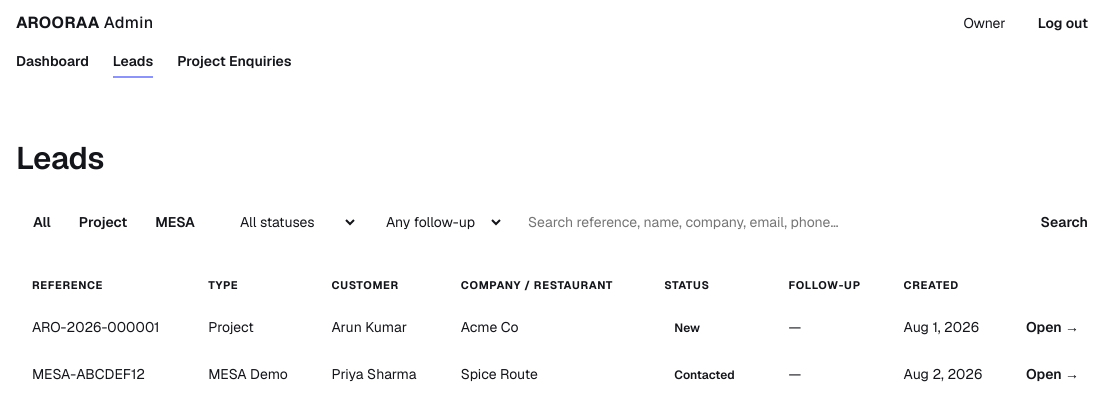
Test case: AdminLeadsListPage › filters by lead type
Expected: the text "Arun Kumar" is shown, [316, 305, 445, 352]
Click the button "Project" at (103, 222), box [65, 206, 141, 238]
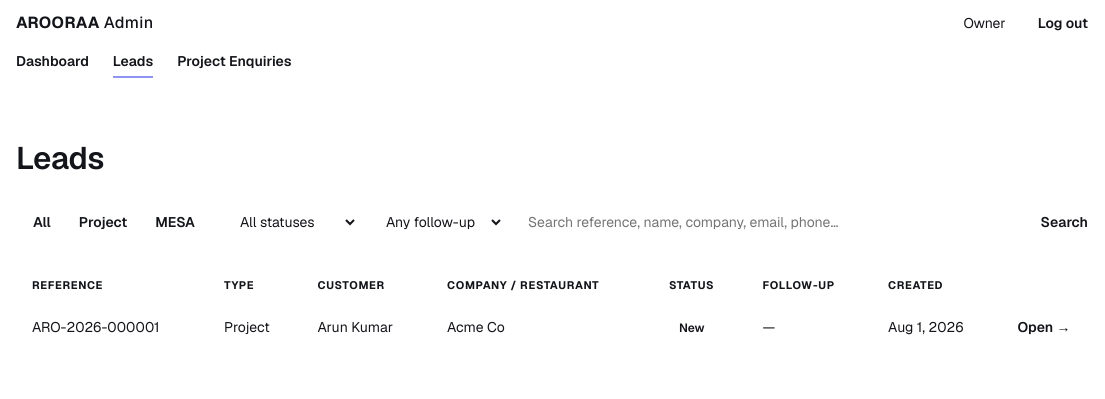
Expected: the text "Arun Kumar" is shown, [302, 305, 431, 352]
Now the text "Priya Sharma" is gone
